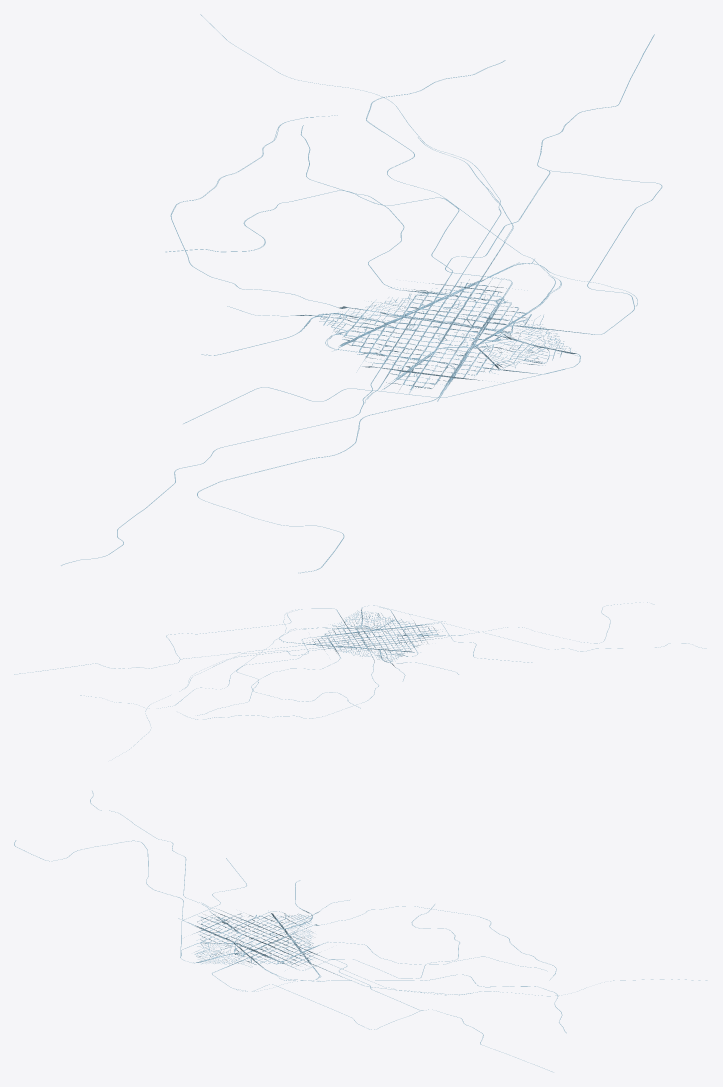
File: roads.glb
3 renders of one model, top to bottom at view 1: azimuth 30°, elevation 25°; view 2: azimuth 150°, elevation 25°; view 3: azimuth 270°, elevation 25°, orthographic. The views are drawn at different scales.
Parts seen in each view (by area): view 1: roads; view 2: roads; view 3: roads.
Boxes of the visible parts, bbox=[...] form: roads: bbox=[61, 14, 662, 573]; roads: bbox=[14, 602, 706, 759]; roads: bbox=[14, 791, 707, 1072].
Bounding box in the file's own units: 14799 × 82.92 × 15438.
